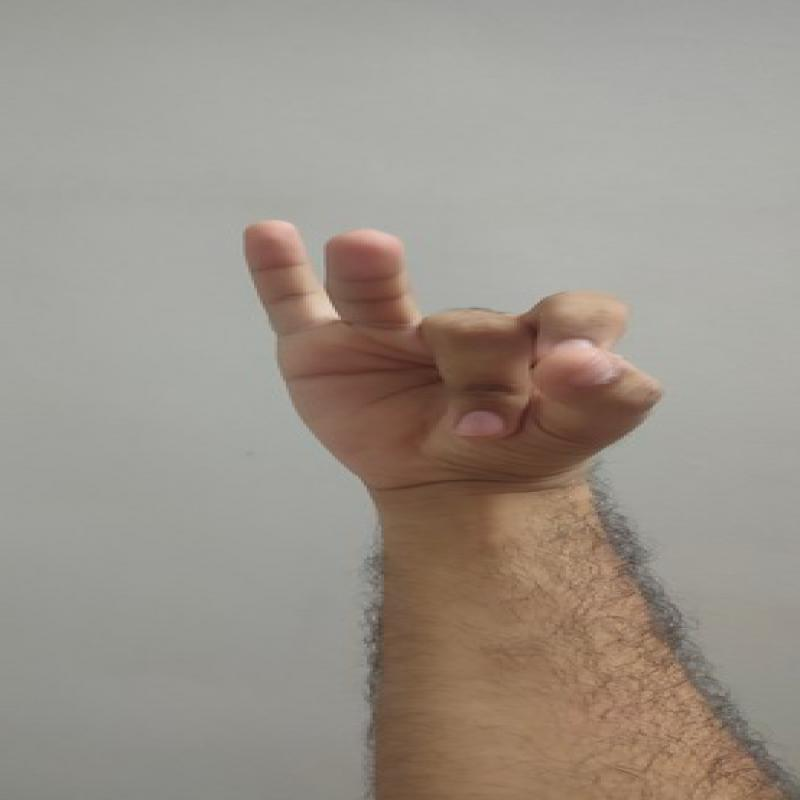Katakam: (226, 200, 670, 499)
